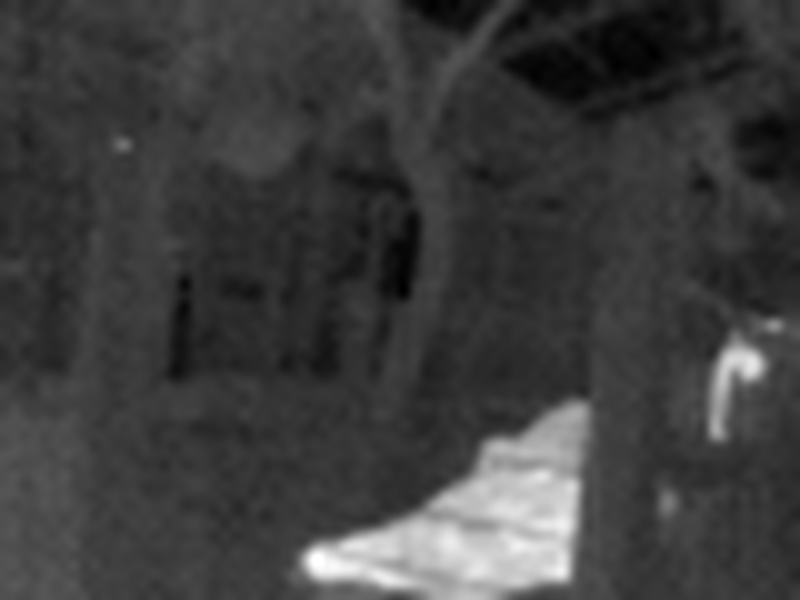elephant: (267, 402, 704, 587)
